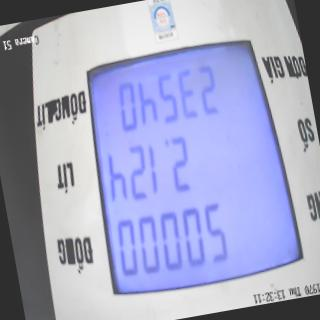screen: (67, 25, 311, 320)
